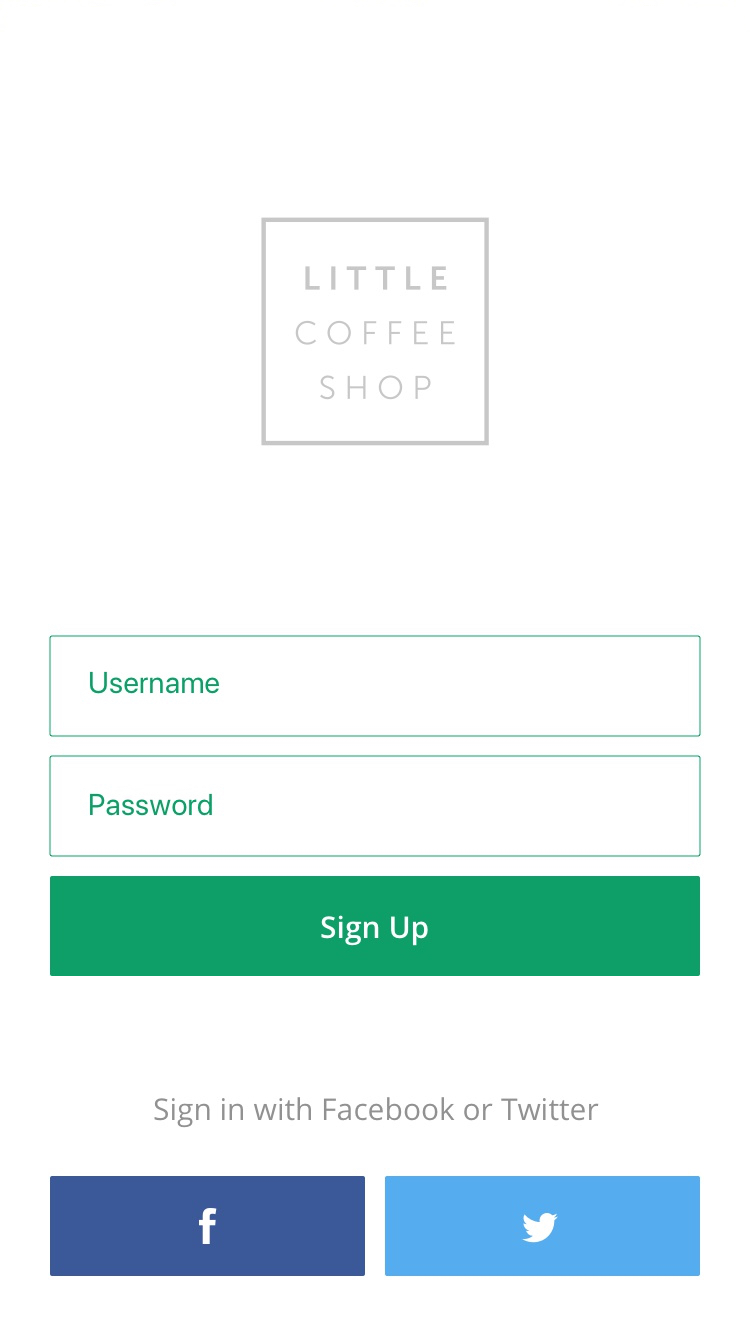EditText: (50, 635, 701, 738), (50, 755, 701, 858)
Image: (262, 217, 490, 446)
Text: (154, 1096, 599, 1128), (90, 672, 220, 694), (90, 793, 213, 816)
TextButton: (50, 876, 700, 976), (51, 1176, 366, 1276), (385, 1176, 700, 1276)
